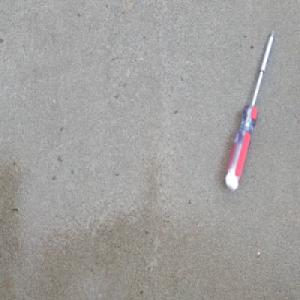Screwdriver: (224, 26, 276, 194)
